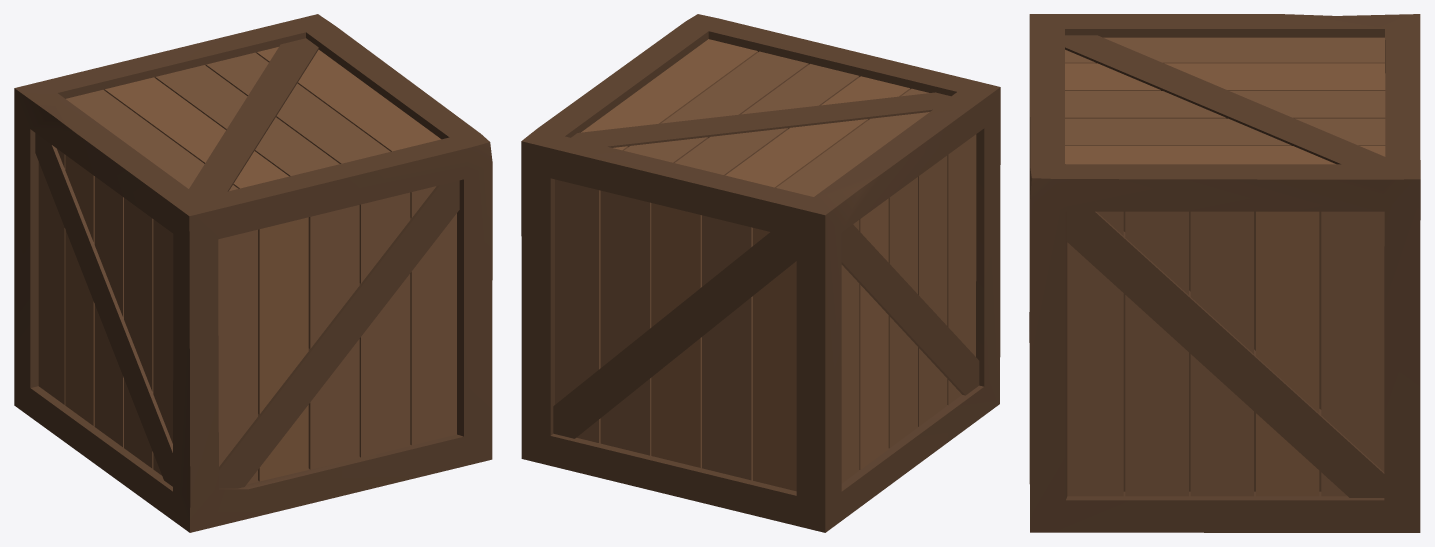
3 renders of one model, left to right at view 1: azimuth 30°, elevation 25°; view 2: azimuth 150°, elevation 25°; view 3: azimuth 270°, elevation 25°, orthographic. The views are drawn at different scales.
Parts seen in each view (by area): view 1: Box_02_LOD0; view 2: Box_02_LOD0; view 3: Box_02_LOD0.
Boxes of the visible parts, box(x1,y1,x2,y2) form: Box_02_LOD0: box(14, 14, 492, 532); Box_02_LOD0: box(521, 14, 1000, 532); Box_02_LOD0: box(1029, 14, 1420, 532).
Size of what is drawn, in the model's own units: 0.9163 by 0.9121 by 0.9132.
